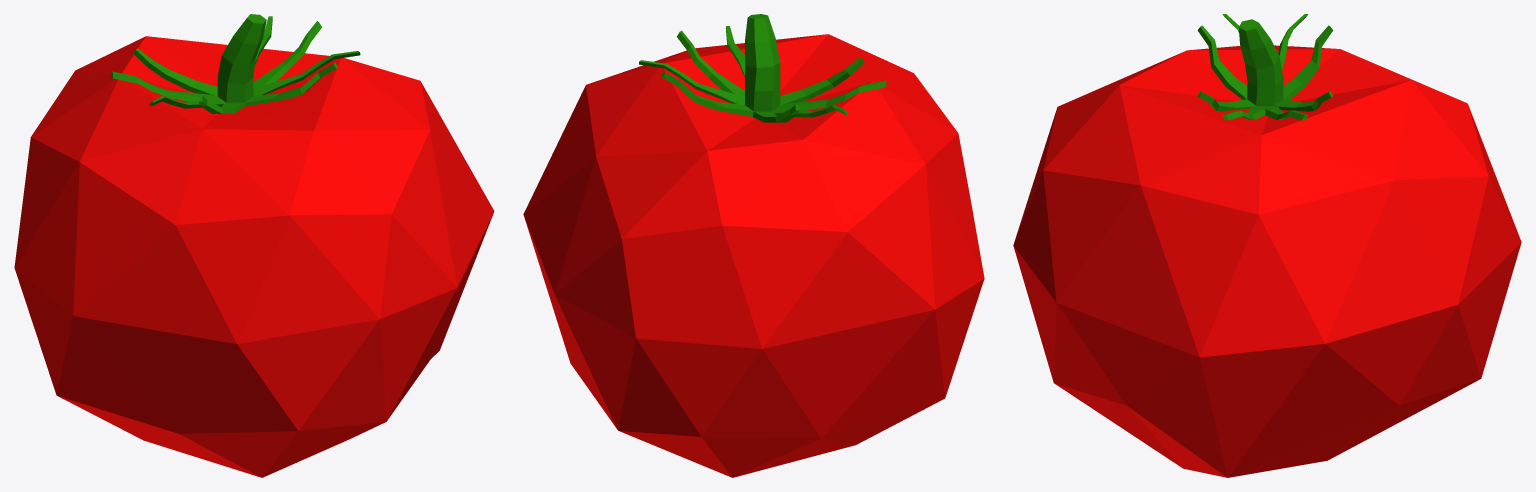
The model's file is Tomato.fbx.
The picture shows the model from 3 angles, left to right: view 1: azimuth 30°, elevation 25°; view 2: azimuth 150°, elevation 25°; view 3: azimuth 270°, elevation 25°; orthographic projection.
Parts seen in each view (by area): view 1: Icosphere, Cylinder.001, Cylinder; view 2: Icosphere, Cylinder.001, Cylinder; view 3: Icosphere, Cylinder.001, Cylinder.
Part boxes in pixels (x1,y1,x2,y2): Icosphere: (14,36,494,477); Cylinder.001: (111,16,360,113); Cylinder: (217,14,266,102); Icosphere: (523,34,984,477); Cylinder.001: (639,26,886,122); Cylinder: (745,14,780,111); Icosphere: (1013,45,1521,477); Cylinder.001: (1197,14,1333,120); Cylinder: (1238,19,1283,106).
Bounding box in the file's own units: 334 × 321 × 344.
